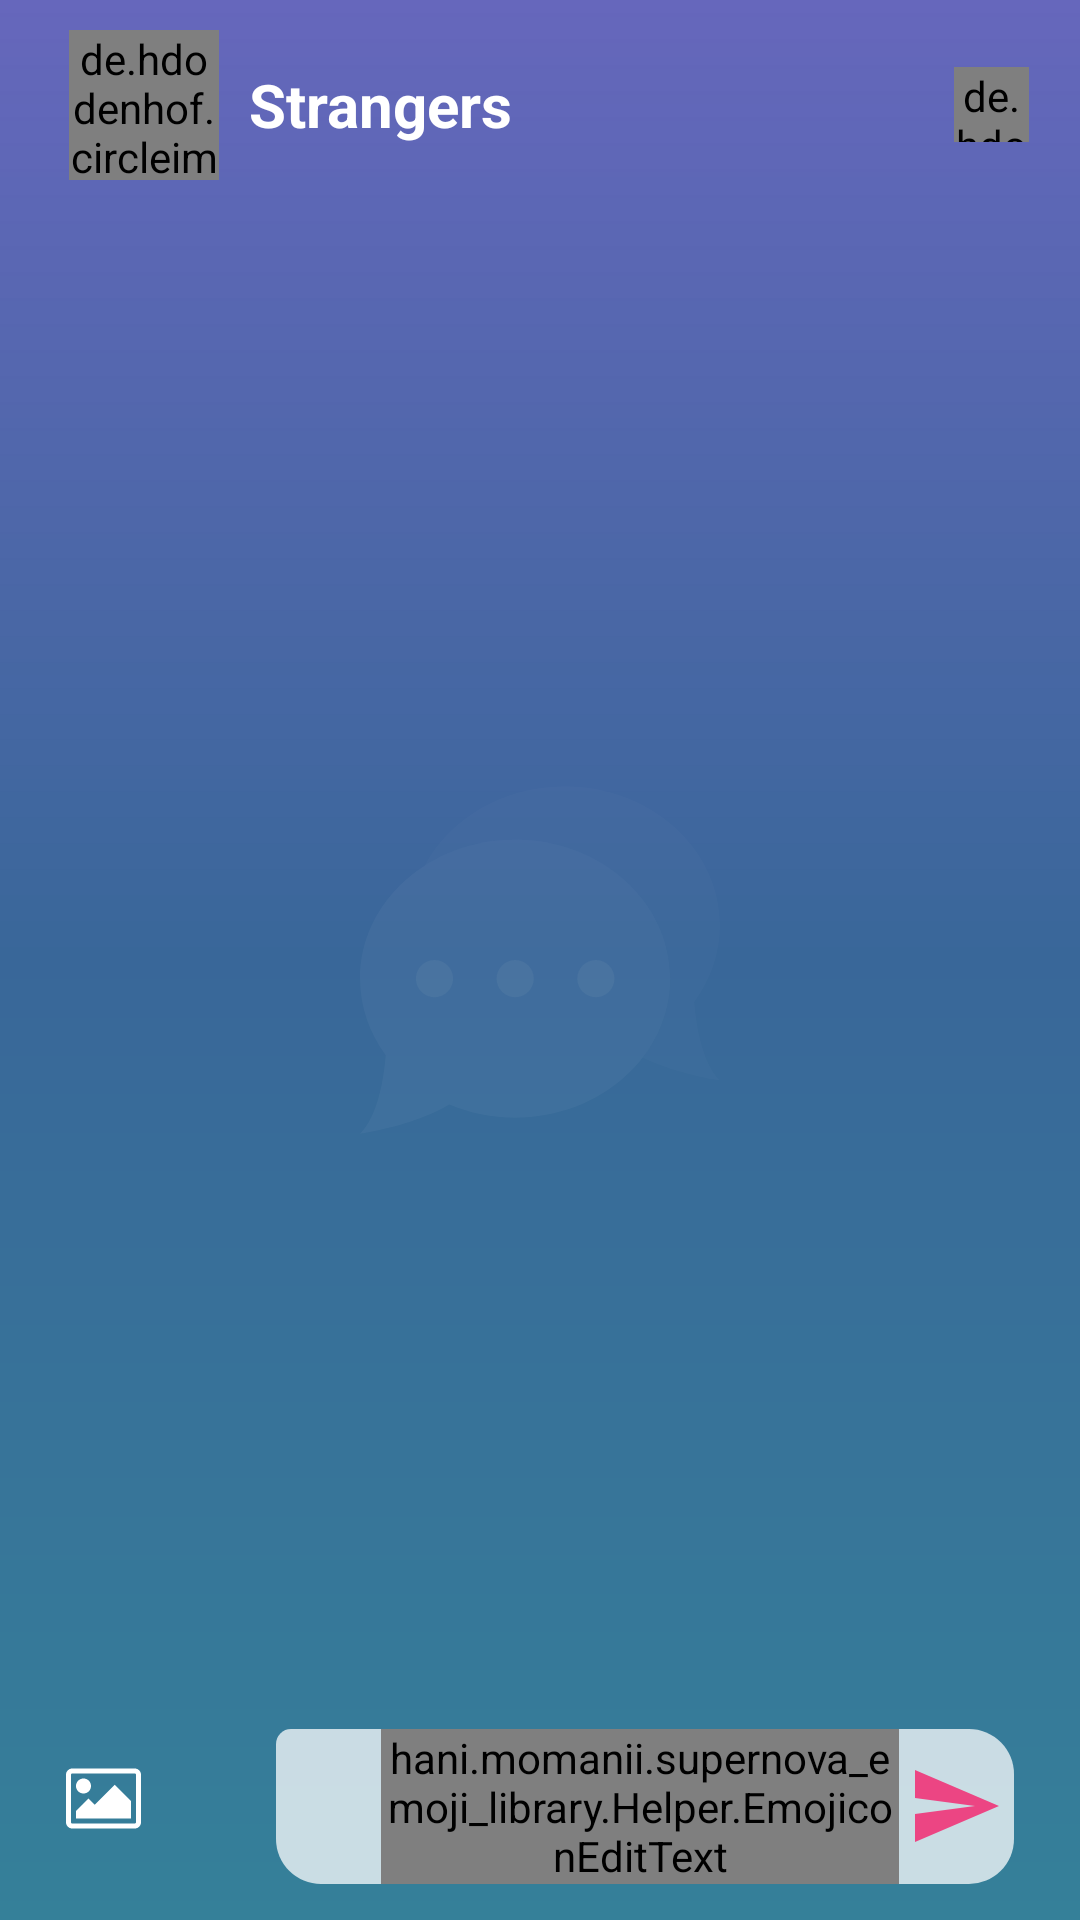

Screen size 1080×1920. Icon name, then its box in pixels as Rect(x1, y1, x2, y2):
send: Rect(915, 1770, 999, 1842)
